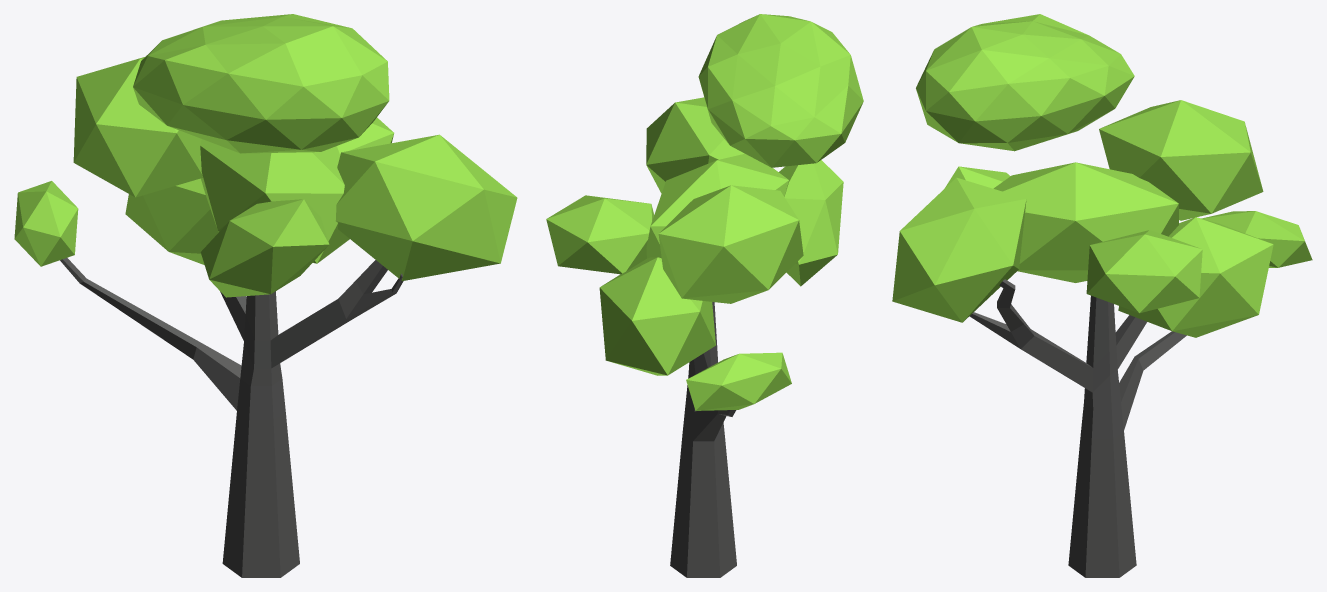
Rendered from Tree5.fbx.
3 views of the same model, side by side, from view 1: azimuth 30°, elevation 25°; view 2: azimuth 150°, elevation 25°; view 3: azimuth 270°, elevation 25° (orthographic). The views are drawn at different scales.
Parts seen in each view (by area): view 1: Icosphere.011, Cylinder.001, Icosphere.007, Icosphere.008, Icosphere.009, Icosphere.014, Icosphere.010, Icosphere.013, Icosphere.012; view 2: Icosphere.011, Icosphere.008, Cylinder.001, Icosphere.010, Icosphere.012, Icosphere.014, Icosphere.007, Icosphere.013, Icosphere.009; view 3: Icosphere.011, Cylinder.001, Icosphere.007, Icosphere.009, Icosphere.008, Icosphere.010, Icosphere.012, Icosphere.013, Icosphere.014.
Part boxes in pixels (left/top/right/bottom): Icosphere.011: left=133, top=14, right=389, bottom=153; Cylinder.001: left=60, top=258, right=403, bottom=577; Icosphere.007: left=335, top=134, right=517, bottom=281; Icosphere.008: left=73, top=57, right=202, bottom=197; Icosphere.009: left=200, top=139, right=349, bottom=263; Icosphere.014: left=200, top=199, right=329, bottom=297; Icosphere.010: left=125, top=178, right=219, bottom=264; Icosphere.013: left=14, top=181, right=78, bottom=266; Icosphere.012: left=337, top=117, right=394, bottom=154; Icosphere.011: left=698, top=14, right=863, bottom=167; Icosphere.008: left=658, top=185, right=803, bottom=303; Cylinder.001: left=670, top=302, right=736, bottom=577; Icosphere.010: left=599, top=257, right=715, bottom=375; Icosphere.012: left=546, top=195, right=654, bottom=274; Icosphere.014: left=779, top=160, right=843, bottom=286; Icosphere.007: left=646, top=97, right=744, bottom=193; Icosphere.013: left=686, top=352, right=791, bottom=410; Icosphere.009: left=646, top=153, right=788, bottom=258; Icosphere.011: left=916, top=14, right=1134, bottom=151; Cylinder.001: left=969, top=279, right=1186, bottom=577; Icosphere.007: left=892, top=177, right=1026, bottom=322; Icosphere.009: left=993, top=162, right=1178, bottom=282; Icosphere.008: left=1099, top=100, right=1263, bottom=220; Icosphere.010: left=1118, top=217, right=1273, bottom=337; Icosphere.012: left=1086, top=230, right=1202, bottom=313; Icosphere.013: left=1201, top=211, right=1312, bottom=267; Icosphere.014: left=945, top=166, right=1010, bottom=188.
Size of the model in its own units: 2617 by 4517 by 3328.
